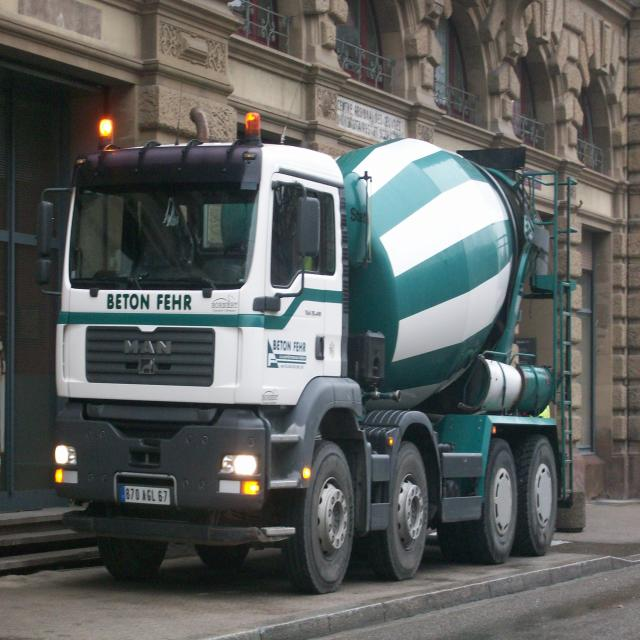Mixer Truck: (55, 138, 577, 594)
